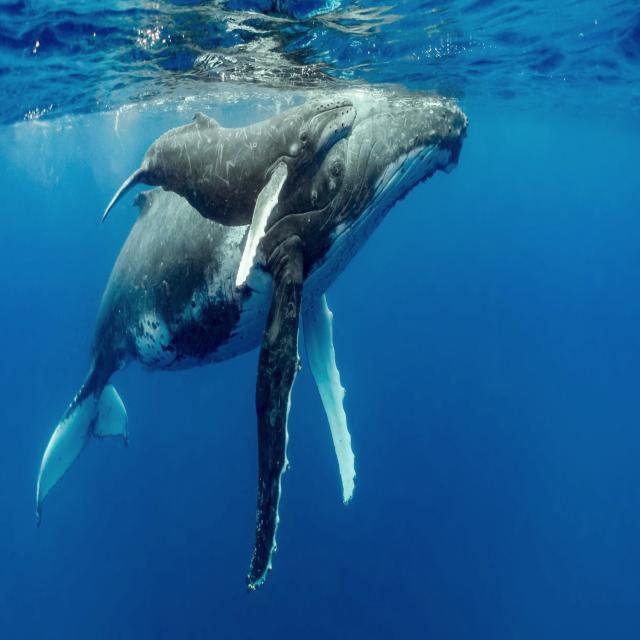whale: (37, 93, 467, 589)
